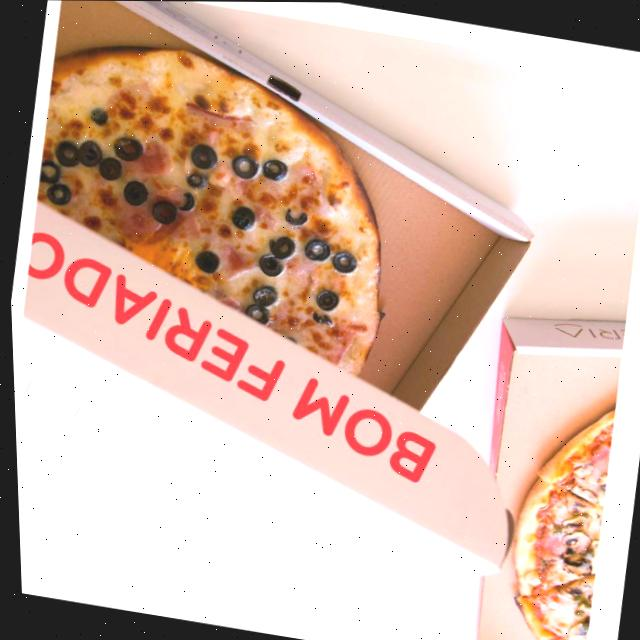black_olives: (262, 230, 295, 263), (109, 134, 145, 163), (73, 137, 103, 170), (187, 141, 219, 171), (119, 176, 149, 208), (228, 152, 262, 180), (50, 138, 80, 168), (146, 197, 178, 225), (258, 155, 289, 183), (190, 247, 221, 275), (226, 203, 255, 232), (94, 155, 123, 183), (248, 282, 278, 309), (254, 252, 284, 278), (238, 301, 269, 326), (310, 286, 338, 313), (42, 182, 71, 208), (302, 236, 330, 262), (327, 249, 355, 274), (37, 159, 62, 186), (182, 170, 208, 192), (84, 106, 111, 127), (282, 208, 308, 228), (174, 190, 195, 213), (305, 308, 331, 324)
mushrooms: (554, 478, 598, 516), (551, 526, 591, 555), (555, 557, 589, 578), (555, 512, 585, 530), (561, 576, 586, 596), (566, 460, 588, 479), (591, 470, 607, 488)
pizza: (10, 27, 417, 380), (486, 393, 618, 640)
